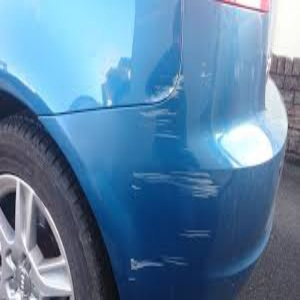bumper_scratch: (118, 75, 222, 288)
